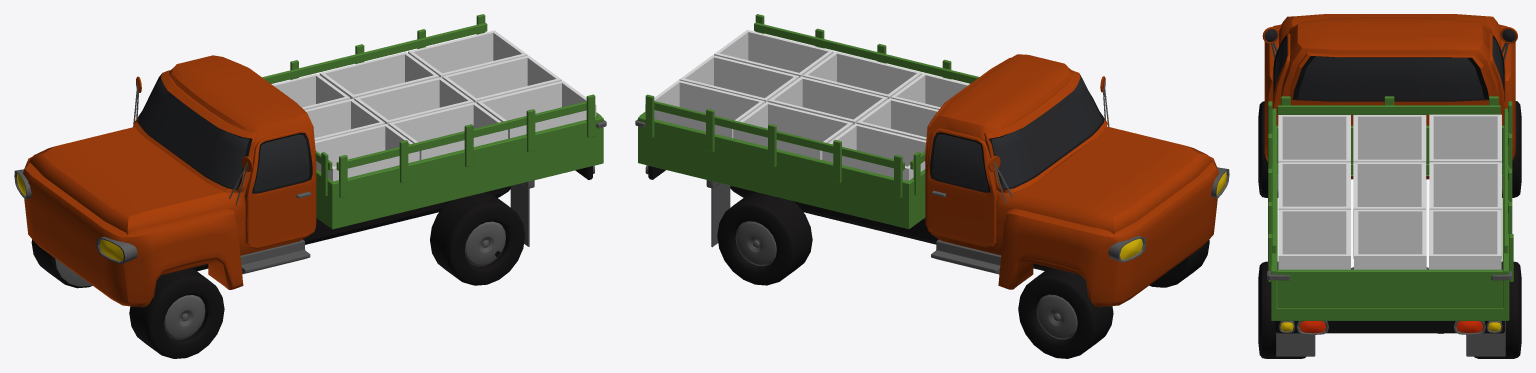
The model's file is mesh_farmtruck.fbx.
The picture shows the model from 3 angles, left to right: view 1: azimuth 30°, elevation 25°; view 2: azimuth 150°, elevation 25°; view 3: azimuth 270°, elevation 25°; orthographic projection. The views are drawn at different scales.
Visible parts, largest first — view 1: mesh_farmtruck; view 2: mesh_farmtruck; view 3: mesh_farmtruck.
Boxes of the visible parts, x1=… form: mesh_farmtruck: x1=14, y1=14, x2=606, y2=358; mesh_farmtruck: x1=635, y1=14, x2=1229, y2=358; mesh_farmtruck: x1=1258, y1=14, x2=1521, y2=358.
Size of the model in its own units: 6.53 by 2.57 by 2.77.
